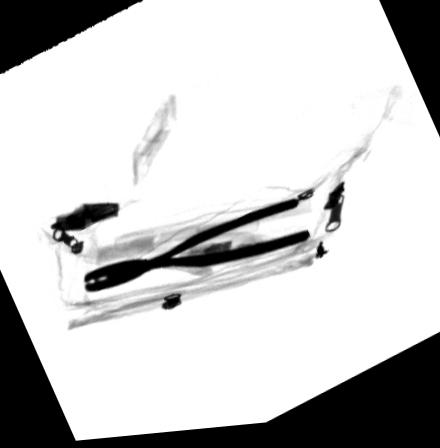Pliers: (82, 203, 311, 295)
